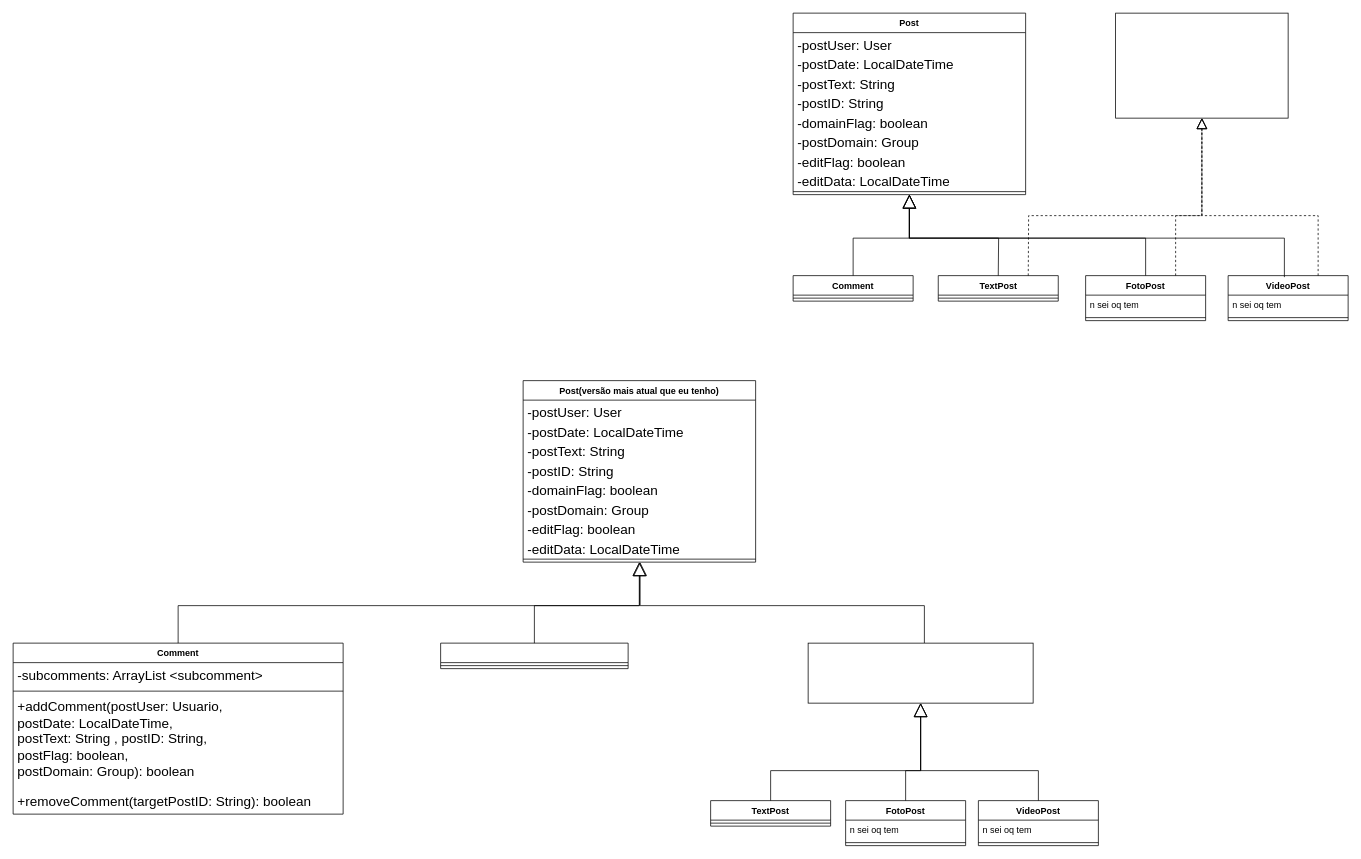
Some shapes in this 1361 by 859 pixel diagram are drawn without their labels. The shapes that lost their labels are listed below. From the top down, each one's centre as x and y in pixels, then its label:
[1201,65]: <<Abstract>> CommentSection - comments: ArrayList <Comment>
[534,655]: SubComment
[920,672]: <<Abstract>> PostWithCommentSection -comments: ArrayList<Comment>
